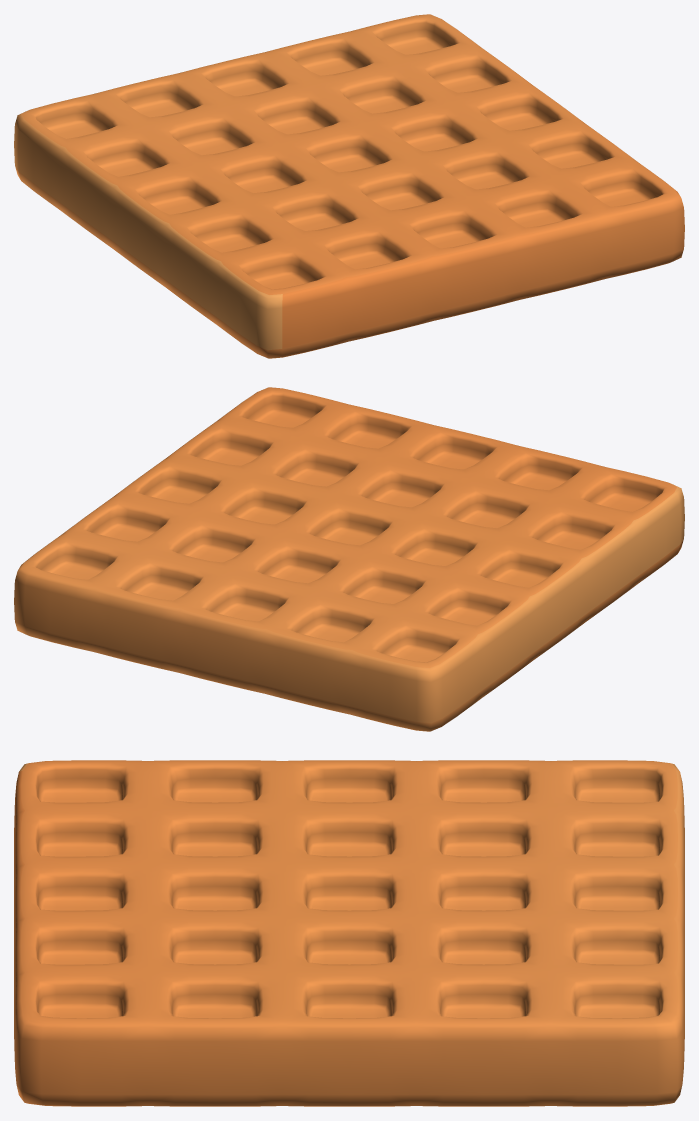
File: Waffle.fbx
3 views of the same model, one above another, from view 1: azimuth 30°, elevation 25°; view 2: azimuth 150°, elevation 25°; view 3: azimuth 270°, elevation 25° (orthographic). The views are drawn at different scales.
Visible parts, largest first — view 1: Pancake; view 2: Pancake; view 3: Pancake.
Part boxes in pixels (<box>): Pancake: <box>14,14,684,358</box>; Pancake: <box>14,387,684,731</box>; Pancake: <box>14,760,684,1106</box>.
Bounding box in the file's own units: 576 × 86.73 × 606.
